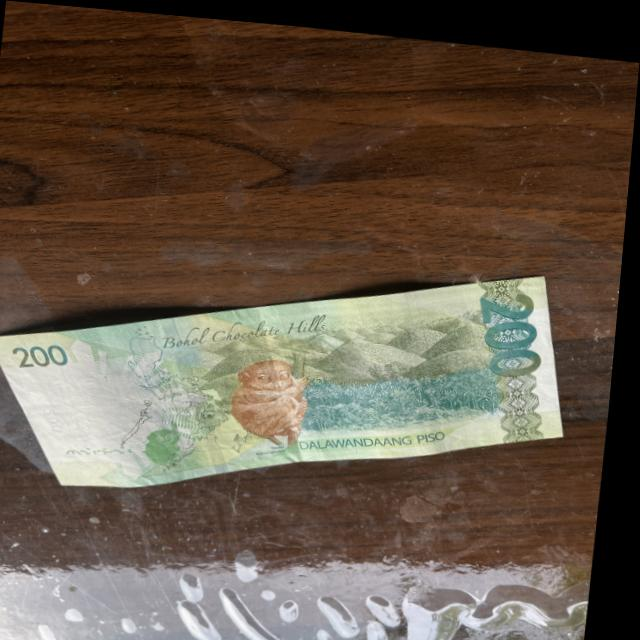200_tarsier: (227, 345, 354, 455)
200_tarsier_watermark: (143, 413, 206, 478)
value_watermark: (33, 394, 86, 437)
